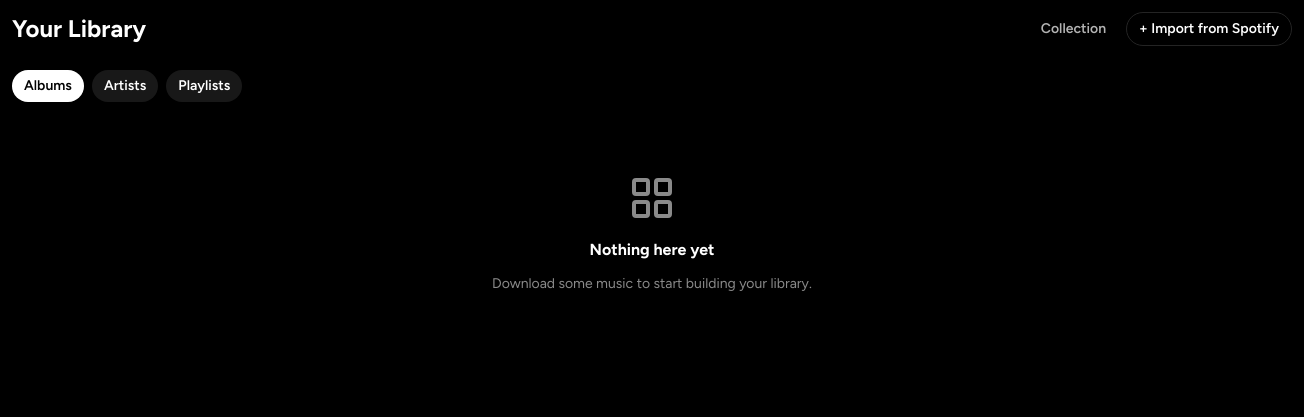
Test case: Library page › switches to Artists grid when Artists chip is clicked
Click the button "Artists". click: coordinates (125, 86)
box: [92,70,158,102]
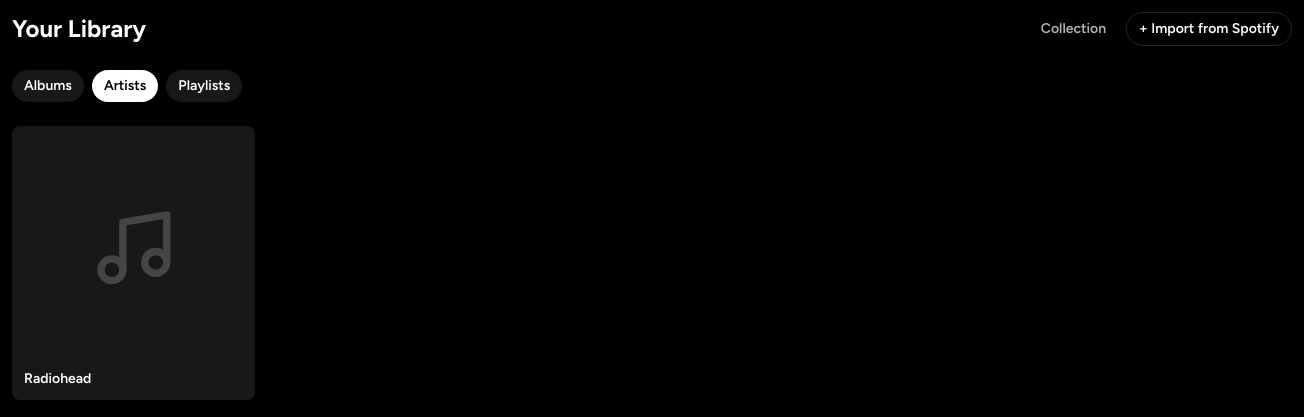
Now the button "Radiohead" is shown, box [12,126,255,400]
